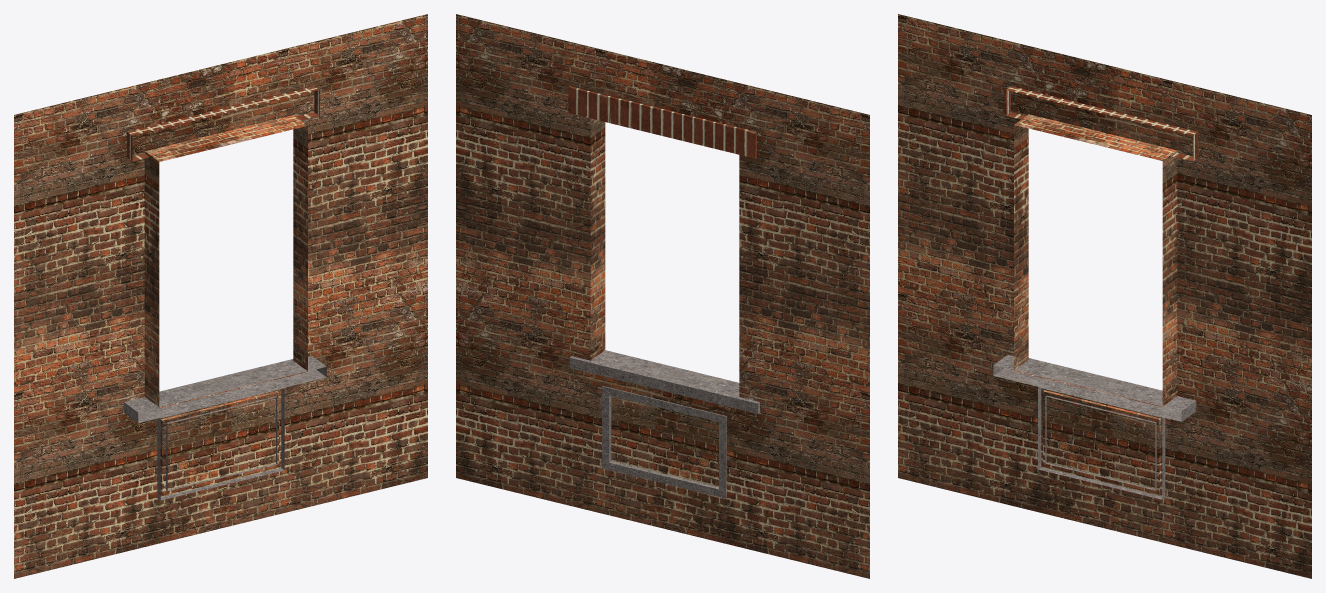
The model's file is BUILDING_singleCorridorWindow_02.FBX.
3 renders of one model, left to right at view 1: azimuth 30°, elevation 25°; view 2: azimuth 150°, elevation 25°; view 3: azimuth 330°, elevation 25°, orthographic.
Visible parts, largest first — view 1: BUILDING_singleCorridorWindow_02; view 2: BUILDING_singleCorridorWindow_02; view 3: BUILDING_singleCorridorWindow_02.
Boxes of the visible parts, <box> form: BUILDING_singleCorridorWindow_02: <box>14,14,427,578</box>; BUILDING_singleCorridorWindow_02: <box>456,14,869,578</box>; BUILDING_singleCorridorWindow_02: <box>898,14,1311,578</box>.
Size of the model in its own units: 4.61 by 4.94 by 0.3207.
